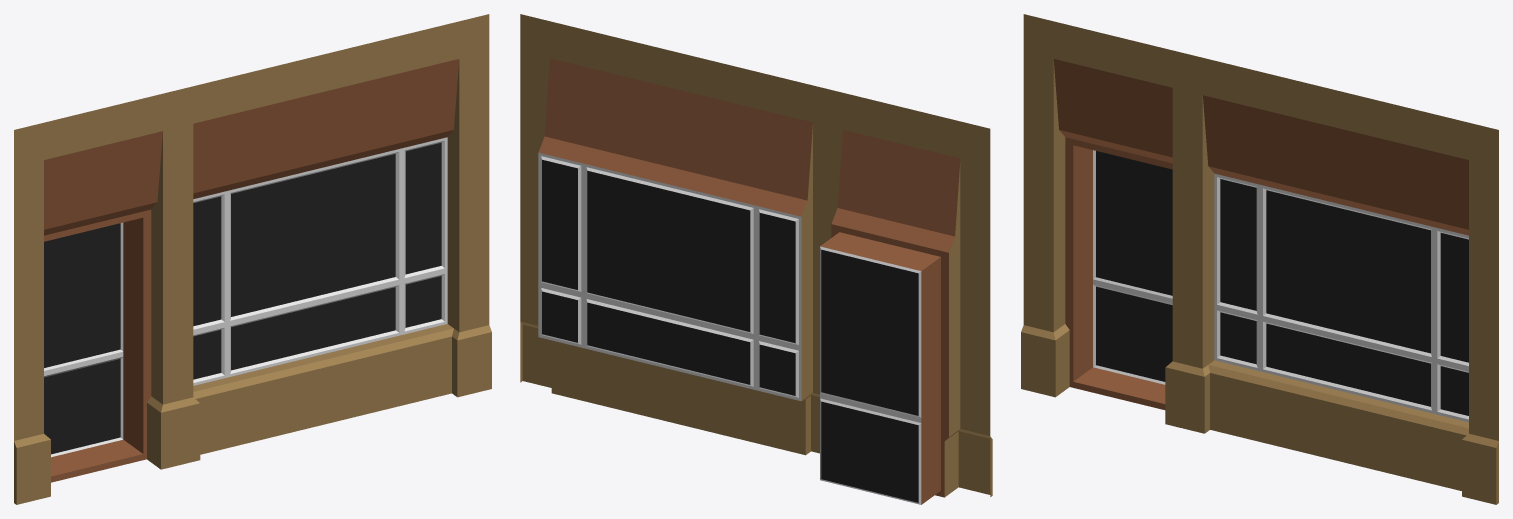
Rendered from ShopFrontA.fbx.
3 renders of one model, left to right at view 1: azimuth 30°, elevation 25°; view 2: azimuth 150°, elevation 25°; view 3: azimuth 330°, elevation 25°, orthographic.
Visible parts, largest first — view 1: ShopFrontA; view 2: ShopFrontA; view 3: ShopFrontA.
Part boxes in pixels (x1=…): ShopFrontA: x1=14, y1=14, x2=491, y2=504; ShopFrontA: x1=520, y1=14, x2=992, y2=504; ShopFrontA: x1=1021, y1=14, x2=1498, y2=504.
Size of the model in its own units: 400 by 300 by 50.62.
